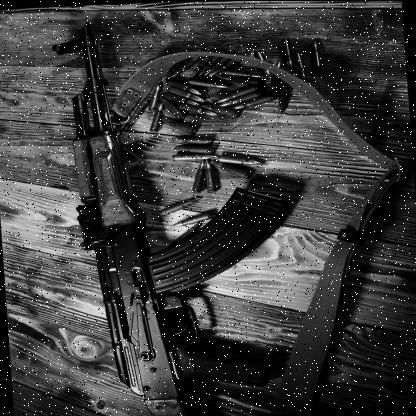rifle: (53, 0, 296, 416)
